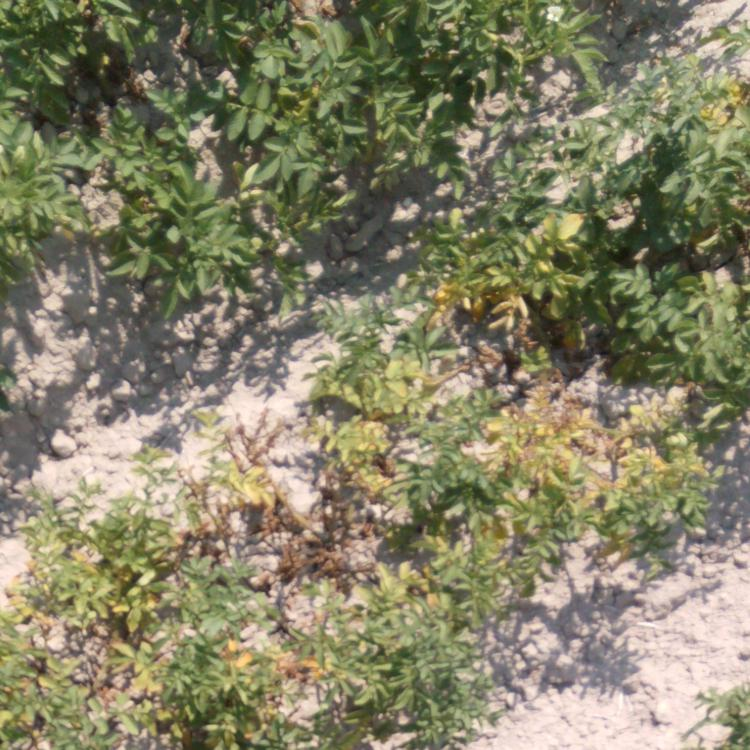healthy: (77, 1, 246, 291), (249, 1, 460, 224), (1, 1, 70, 292), (470, 1, 627, 120)
stressed: (478, 137, 663, 569), (315, 306, 471, 750), (5, 489, 192, 750), (660, 32, 743, 487), (205, 419, 302, 750), (682, 670, 750, 746), (412, 233, 470, 296)
